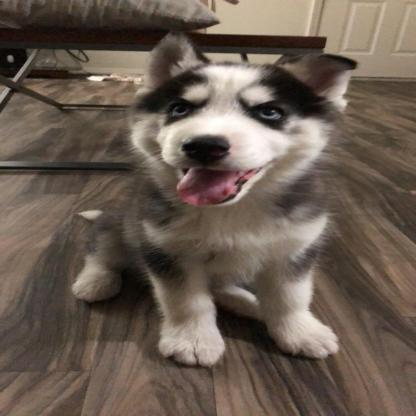dog: (74, 40, 361, 371)
